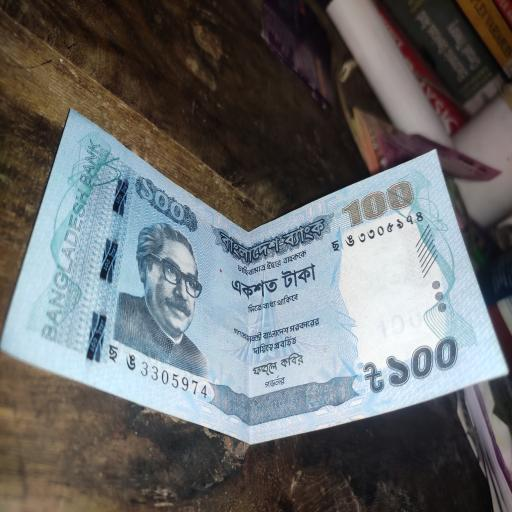100taka: (1, 107, 508, 444)
